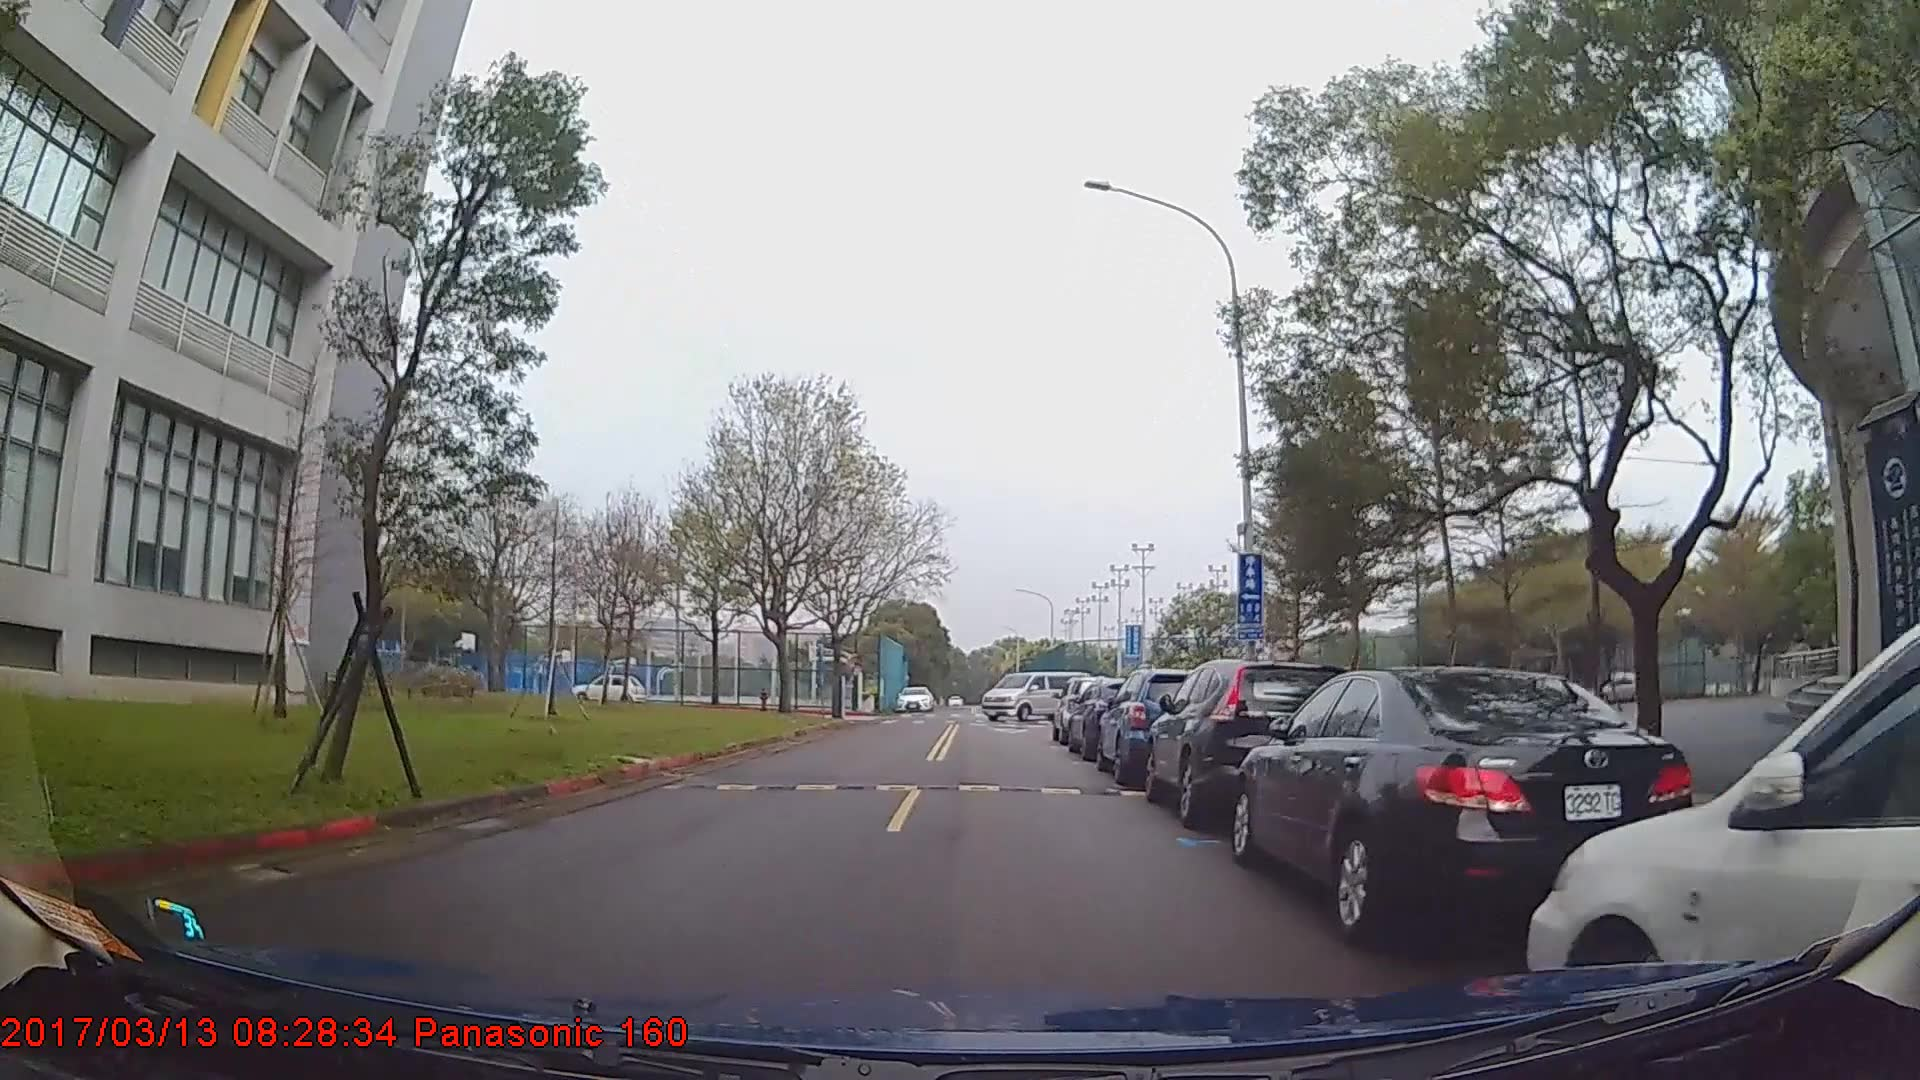vehicle: (1526, 616, 1920, 1031), (1232, 665, 1701, 951), (1142, 655, 1357, 825), (1096, 665, 1213, 785), (982, 669, 1092, 720), (568, 671, 647, 702), (894, 684, 935, 712)
